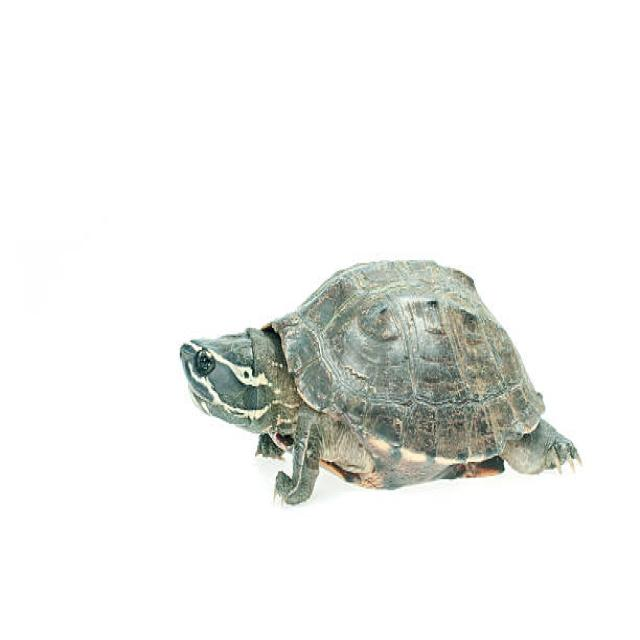terrapin: (272, 242, 548, 414), (146, 319, 292, 435), (274, 407, 342, 538), (500, 389, 589, 480), (232, 394, 287, 468)
